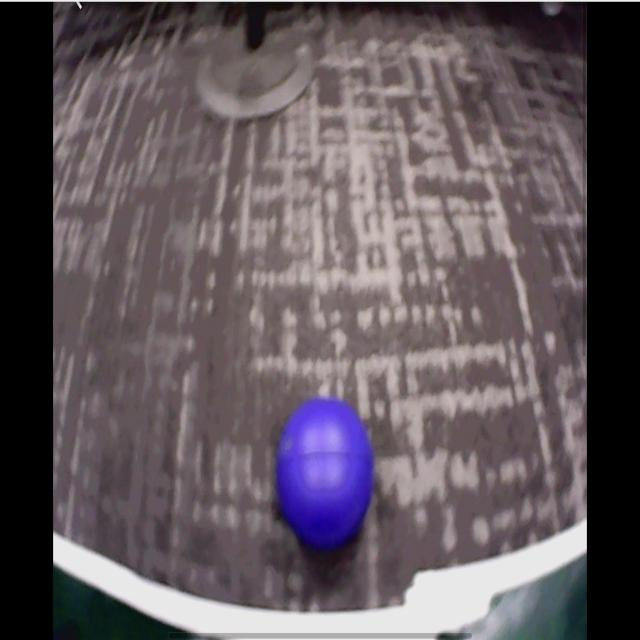ball: (276, 399, 374, 545)
